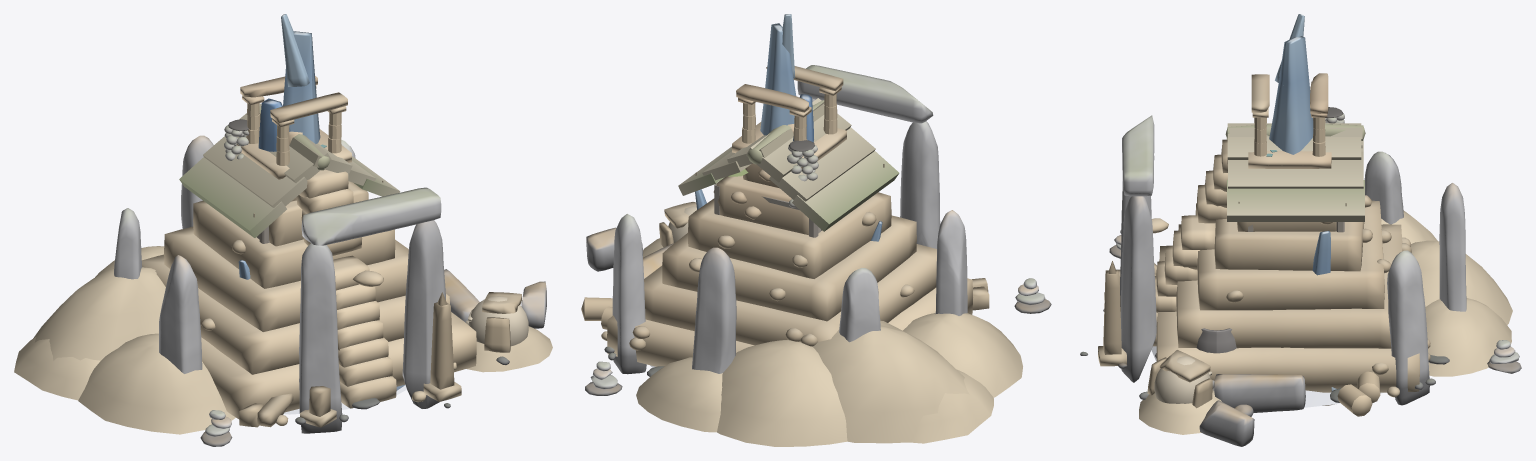
The model's file is landmarks.glb.
The picture shows the model from 3 angles, left to right: view 1: azimuth 30°, elevation 25°; view 2: azimuth 150°, elevation 25°; view 3: azimuth 270°, elevation 25°; orthographic projection. The views are drawn at different scales.
Parts seen in each view (by area): view 1: lm_sunken_pyramid, lm_standing_stones, lm_witch_hut, lm_frozen_spire; view 2: lm_sunken_pyramid, lm_standing_stones, lm_witch_hut, lm_frozen_spire; view 3: lm_sunken_pyramid, lm_standing_stones, lm_witch_hut, lm_frozen_spire.
Part boxes in pixels (left/top/right/bottom): lm_sunken_pyramid: left=14, top=76, right=552, bottom=434; lm_standing_stones: left=114, top=135, right=546, bottom=446; lm_witch_hut: left=179, top=103, right=400, bottom=243; lm_frozen_spire: left=238, top=14, right=406, bottom=414; lm_sunken_pyramid: left=581, top=66, right=1022, bottom=446; lm_standing_stones: left=585, top=65, right=1051, bottom=395; lm_witch_hut: left=678, top=98, right=899, bottom=237; lm_frozen_spire: left=650, top=14, right=882, bottom=367; lm_sunken_pyramid: left=1098, top=73, right=1512, bottom=434; lm_standing_stones: left=1080, top=115, right=1521, bottom=446; lm_witch_hut: left=1196, top=107, right=1365, bottom=405; lm_frozen_spire: left=1151, top=14, right=1383, bottom=407.
Size of the model in its own units: 9.17 by 6.55 by 7.84.
